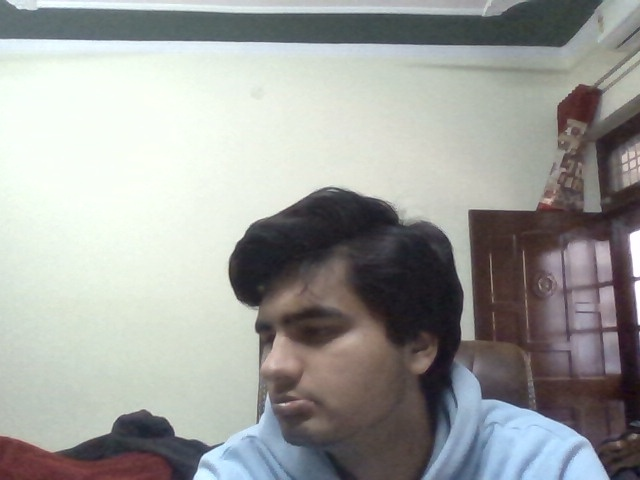sadness: (260, 295, 393, 437)
